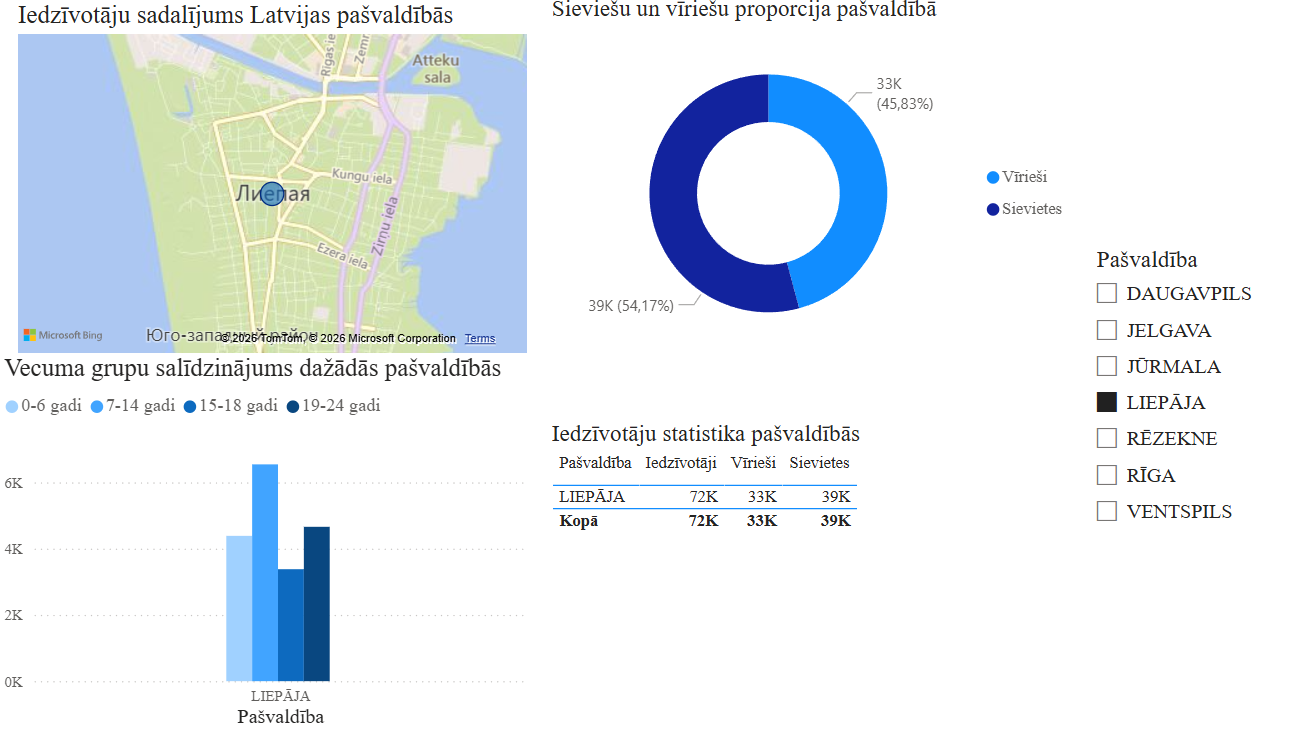

This screenshot's page, from the dashboard's own definition file:
{"tool":"powerbi","page":{"name":"Page 1","canvas":[1280,720],"ordinal":0},"visuals":[{"type":"map","title":"Iedzīvotāju sadalījums Latvijas pašvaldībās","fields":{"Size":["Sum(2026_01_pmlp_iedzivotaju_skaits.Iedzīvotāju skaits)"],"Category":["2026_01_pmlp_iedzivotaju_skaits.Pašvaldība"]},"box":[10.9,4.5,417.3,287.3],"z":0},{"type":"clusteredColumnChart","title":"Vecuma grupu salīdzinājums dažādās pašvaldībās","fields":{"Category":["2026_01_pmlp_iedzivotaju_skaits.Pašvaldība"],"Y":["Sum(2026_01_pmlp_iedzivotaju_skaits.Vecums 0-6)","Sum(2026_01_pmlp_iedzivotaju_skaits.Vecums 7-14)","Sum(2026_01_pmlp_iedzivotaju_skaits.Vecums 15-18)","Sum(2026_01_pmlp_iedzivotaju_skaits.Vecums 19-24)"]},"box":[0,287,428,304],"z":1000},{"type":"donutChart","title":"Sieviešu un vīriešu proporcija pašvaldībā","fields":{"Y":["Sum(2026_01_pmlp_iedzivotaju_skaits.Vīriešu skaits)","Sum(2026_01_pmlp_iedzivotaju_skaits.Sieviešu skaits)"]},"box":[438,0,428,297],"z":2000},{"type":"tableEx","title":"Iedzīvotāju statistika pašvaldībās","fields":{"Values":["2026_01_pmlp_iedzivotaju_skaits.Pašvaldība","Sum(2026_01_pmlp_iedzivotaju_skaits.Iedzīvotāju skaits)","Sum(2026_01_pmlp_iedzivotaju_skaits.Vīriešu skaits)","Sum(2026_01_pmlp_iedzivotaju_skaits.Sieviešu skaits)"]},"box":[437.8,340,470,327.8],"z":3000},{"type":"slicer","fields":{"Values":["2026_01_pmlp_iedzivotaju_skaits.Pašvaldība"]},"box":[866,196,175,243],"z":4000}]}

Visuals, with their boxes in screenshot pixels (x1, y1, x2, y2), scaled from the page's 1280x720 canvas onto the 1295x730 screenshot:
"Iedzīvotāju sadalījums Latvijas pašvaldībās" map: crop(11, 5, 433, 296)
"Vecuma grupu salīdzinājums dažādās pašvaldībās" clusteredColumnChart: crop(0, 291, 433, 599)
"Sieviešu un vīriešu proporcija pašvaldībā" donutChart: crop(443, 0, 876, 301)
"Iedzīvotāju statistika pašvaldībās" tableEx: crop(443, 345, 918, 677)
slicer - 2026_01_pmlp_iedzivotaju_skaits.Pašvaldība: crop(876, 199, 1053, 445)
